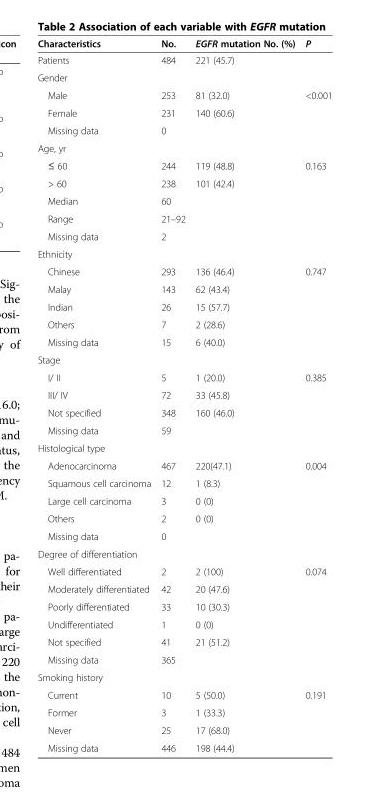table: (36, 37, 331, 753)
table column: (36, 37, 155, 753), (189, 37, 299, 753), (155, 37, 189, 753), (299, 37, 331, 753)
table column header: (36, 37, 331, 51)
table projected row header: (36, 68, 331, 86), (36, 244, 331, 262), (36, 350, 331, 368), (36, 438, 331, 456), (36, 544, 331, 562), (36, 139, 331, 156), (36, 668, 331, 685)
table row: (36, 68, 331, 86), (36, 103, 331, 121), (36, 121, 331, 139), (36, 156, 331, 174), (36, 191, 331, 209), (36, 209, 331, 227), (36, 244, 331, 262), (36, 262, 331, 280), (36, 297, 331, 315), (36, 315, 331, 333), (36, 350, 331, 368), (36, 385, 331, 403), (36, 403, 331, 421), (36, 438, 331, 456), (36, 456, 331, 474), (36, 491, 331, 509), (36, 509, 331, 527), (36, 544, 331, 562), (36, 579, 331, 597), (36, 597, 331, 615), (36, 632, 331, 650), (36, 650, 331, 668), (36, 685, 331, 703), (36, 703, 331, 721), (36, 51, 331, 68), (36, 86, 331, 103), (36, 139, 331, 156), (36, 174, 331, 191), (36, 227, 331, 244), (36, 280, 331, 297), (36, 333, 331, 350), (36, 368, 331, 385), (36, 421, 331, 438), (36, 474, 331, 491), (36, 527, 331, 544), (36, 562, 331, 579), (36, 615, 331, 632), (36, 668, 331, 685), (36, 721, 331, 738), (36, 738, 331, 753), (36, 37, 331, 51)
